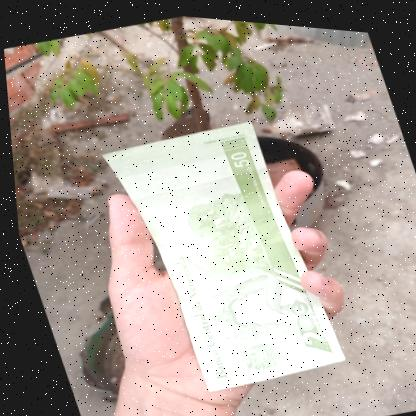fifty-back-vef: (93, 102, 345, 405)
